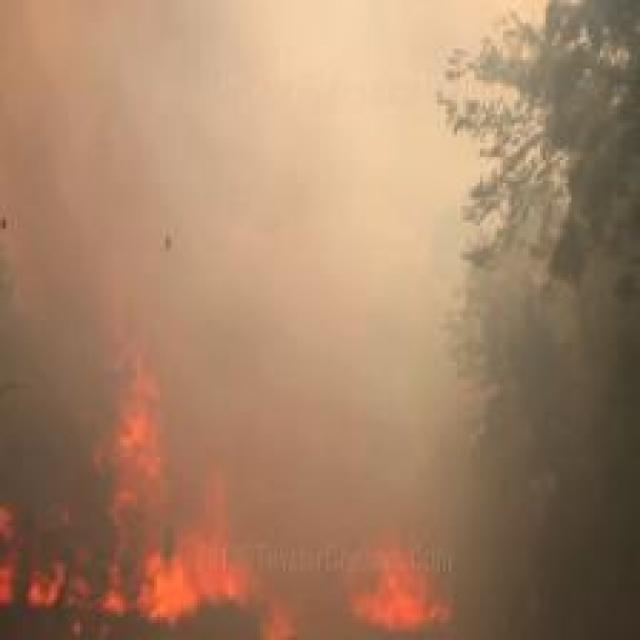Fire: (0, 304, 306, 639), (350, 530, 456, 630)
